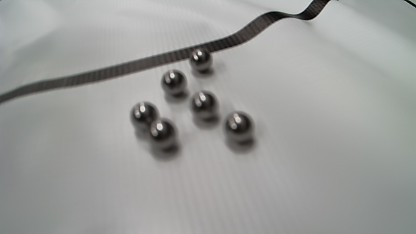ironball: (224, 111, 254, 143), (148, 118, 177, 149), (190, 90, 218, 120), (130, 101, 158, 130), (161, 69, 187, 96), (189, 48, 212, 72)
